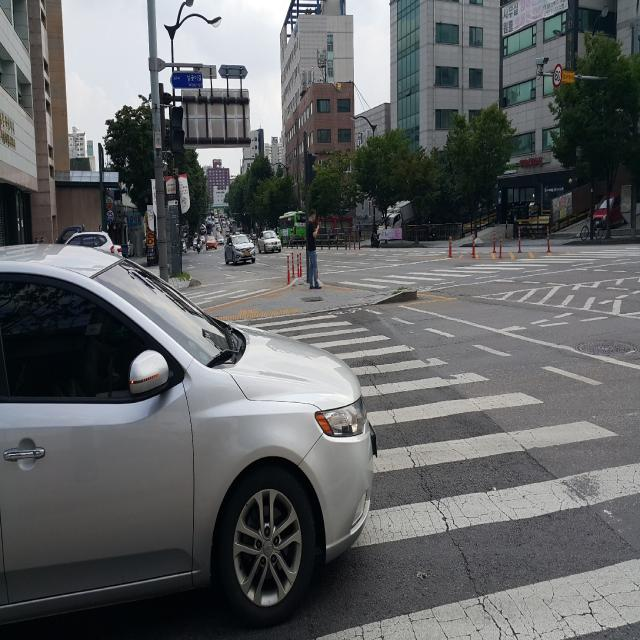횡단보도: (230, 312, 640, 640), (399, 266, 603, 282)
